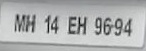character: (24, 14, 36, 34), (13, 13, 25, 32), (49, 15, 58, 34), (67, 15, 76, 34), (77, 16, 86, 35), (114, 18, 123, 35), (103, 17, 111, 36), (123, 18, 131, 36), (43, 14, 50, 34), (94, 17, 101, 35)
